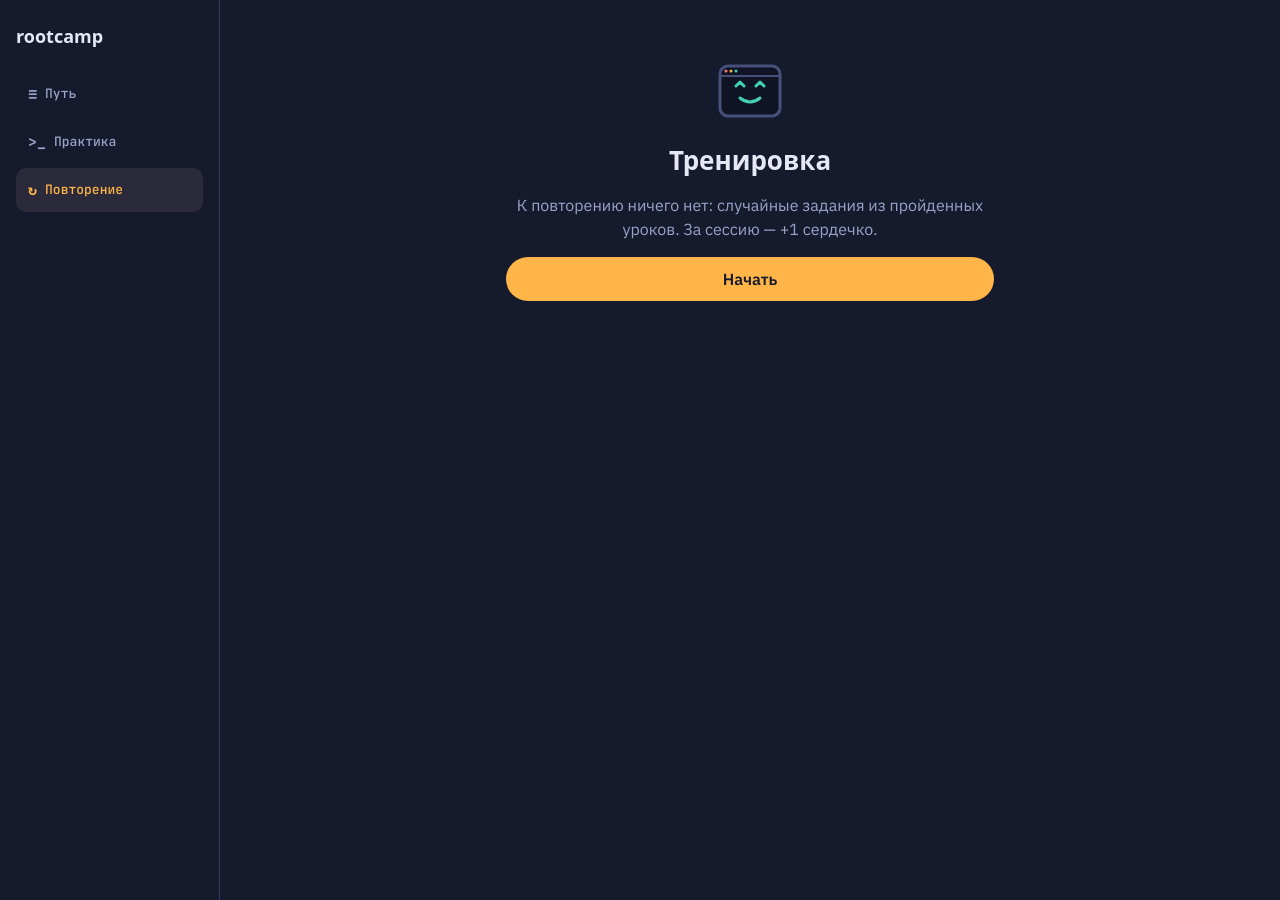
Test: Review screen › «Тренировка» when nothing is due; 204 → «Пока нечего тренировать»
Check: the heading "Тренировка" is shown, box 669,144 -> 831,177
Click the button "Начать" at (750, 279), box 506,257 -> 994,301
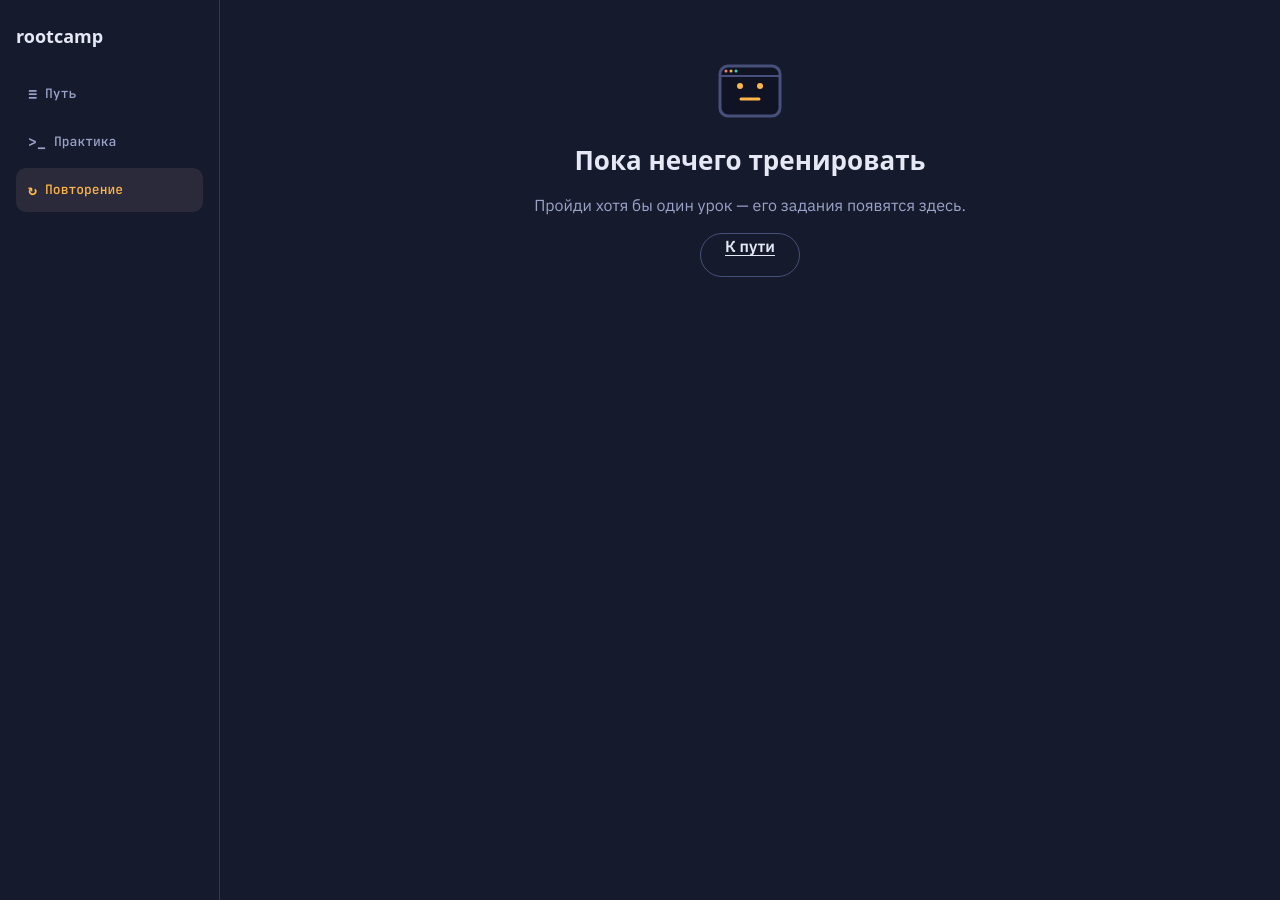
Check: the heading "Пока нечего тренировать" is shown, box 574,144 -> 926,177
